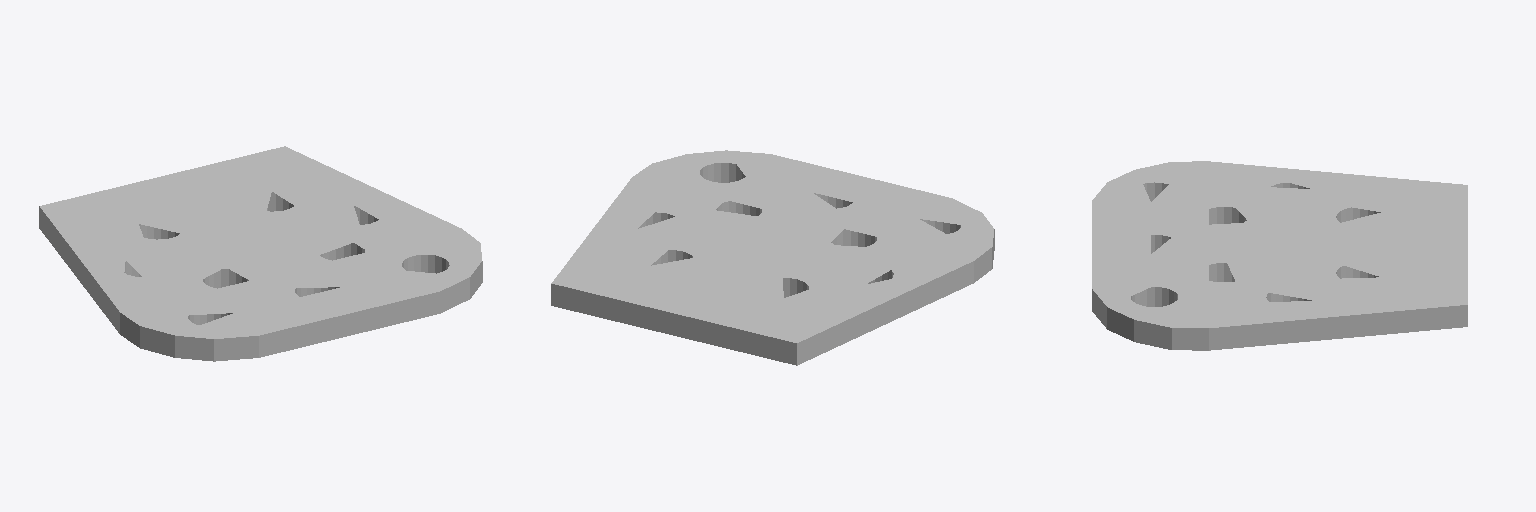
The model's file is chair_Seat_ofg.obj.
3 views of the same model, side by side, from view 1: azimuth 30°, elevation 25°; view 2: azimuth 150°, elevation 25°; view 3: azimuth 270°, elevation 25° (orthographic).
Bounding box in the file's own units: 9.31 × 0.5807 × 8.84.